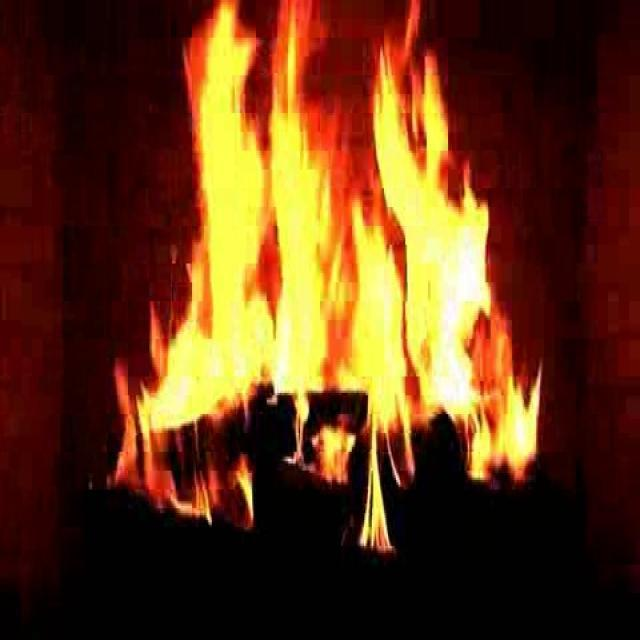Fire: (158, 34, 506, 515)
